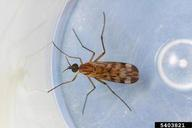Fruit fly: (54, 21, 146, 117)
